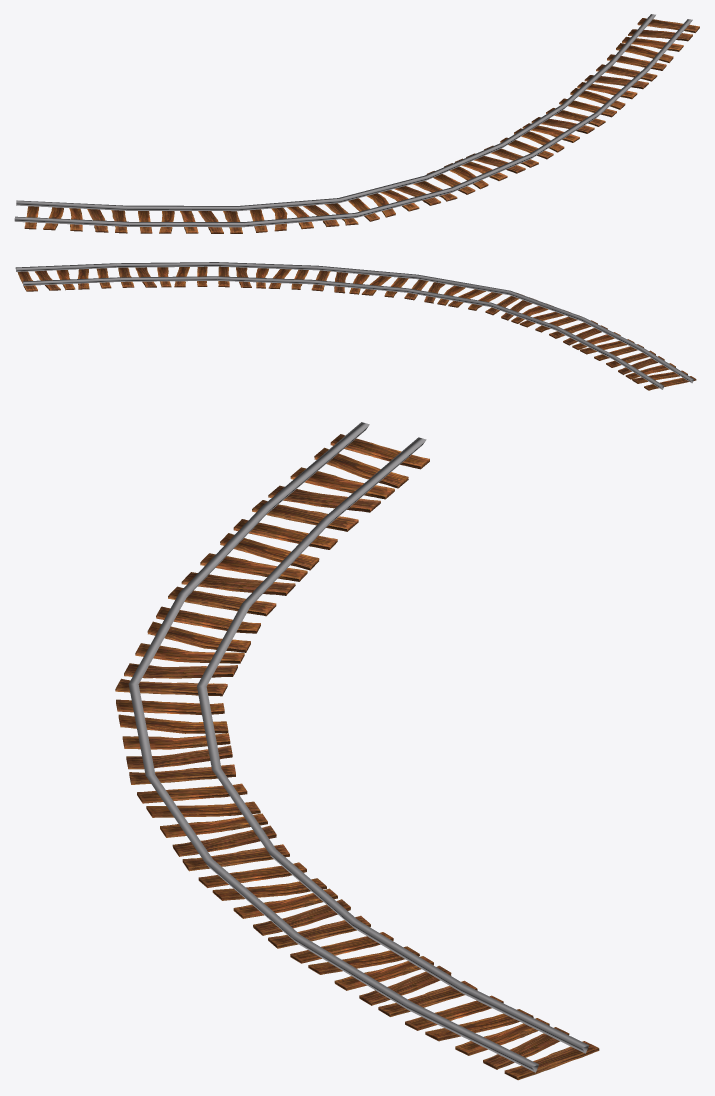
The model's file is SWORDLIGHT20_TRACK10.fbx.
3 renders of one model, top to bottom at view 1: azimuth 30°, elevation 25°; view 2: azimuth 150°, elevation 25°; view 3: azimuth 270°, elevation 25°, orthographic. The views are drawn at different scales.
Parts seen in each view (by area): view 1: SWORDLIGHT20_TRACK10; view 2: SWORDLIGHT20_TRACK10; view 3: SWORDLIGHT20_TRACK10.
Part boxes in pixels (x1,y1,x2,y2): SWORDLIGHT20_TRACK10: (14,14,699,233); SWORDLIGHT20_TRACK10: (15,262,696,390); SWORDLIGHT20_TRACK10: (115,422,599,1080).
Size of the model in its own units: 226504 by 7344 by 74077.
Materials: 2 (2 with a texture image).
